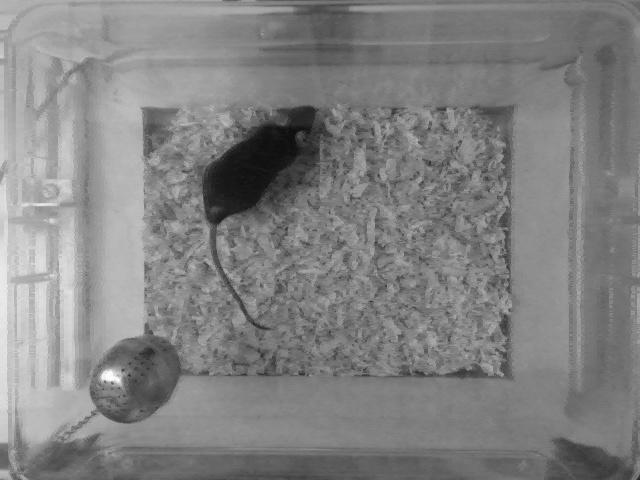mice: (197, 102, 320, 329)
